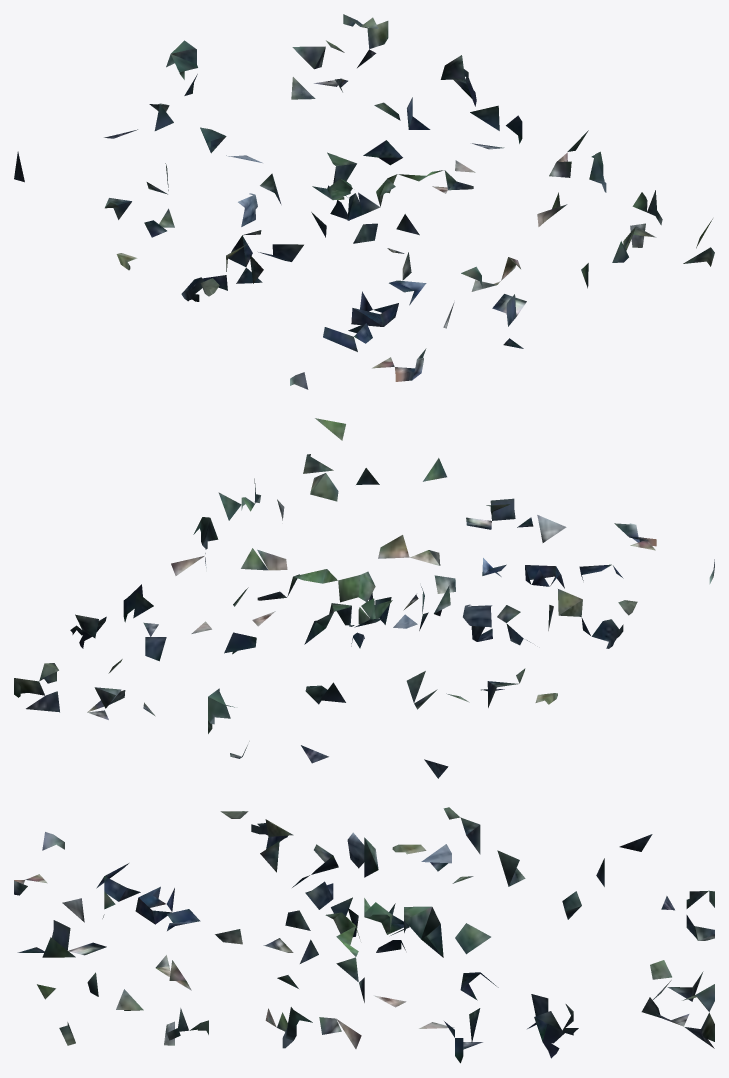
3 renders of one model, top to bottom at view 1: azimuth 30°, elevation 25°; view 2: azimuth 150°, elevation 25°; view 3: azimuth 270°, elevation 25°, orthographic. The views are drawn at different scales.
Parts seen in each view (by area): view 1: 304362727043616357_1; view 2: 304362727043616357_1; view 3: 304362727043616357_1.
Boxes of the visible parts, left/top/right/bottom form: 304362727043616357_1: left=14, top=14, right=714, bottom=389; 304362727043616357_1: left=14, top=418, right=714, bottom=778; 304362727043616357_1: left=14, top=807, right=714, bottom=1063.
Size of the model in its own units: 109 by 19.72 by 153.
1 material, 1 textured.
